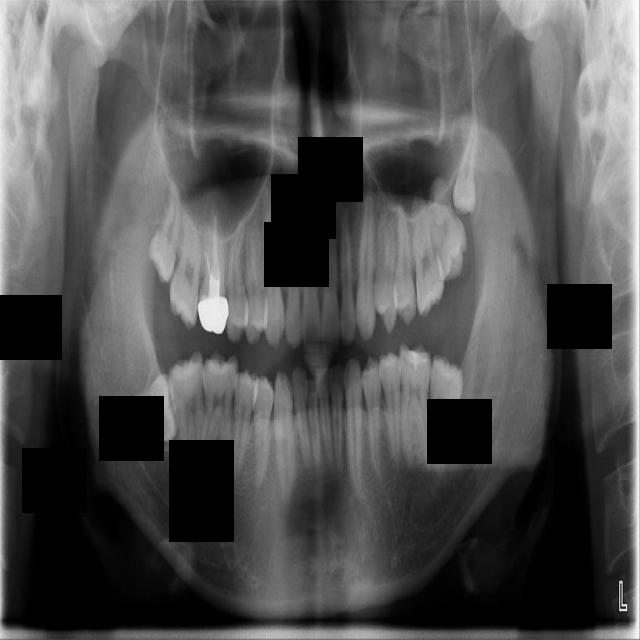3M ESPE Implant: (143, 172, 189, 283)
52: (193, 293, 232, 338), (398, 343, 432, 384)
73: (199, 204, 227, 301), (590, 552, 602, 580)
BioHorizons Implant: (416, 175, 476, 285)
BioLife Implant: (452, 121, 479, 215)
Blue Sky Bio Implant: (427, 352, 464, 471)
Caries: (166, 212, 203, 331)
Implant: (166, 349, 206, 474)
Keystone Dental Implant: (120, 371, 183, 448)
